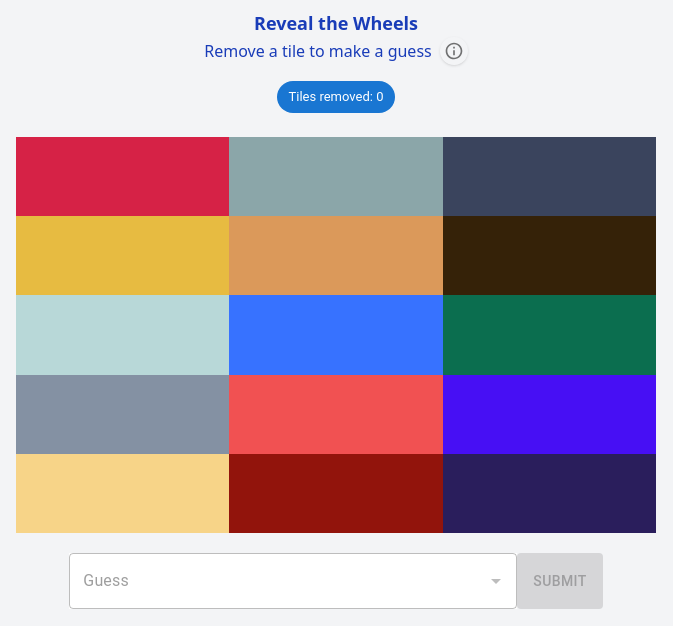
Test: Render UI Tests › should display loading spinner before image is loaded
Click the 8th element titled "tile" at coordinates (336, 335), box [229,295,443,375]
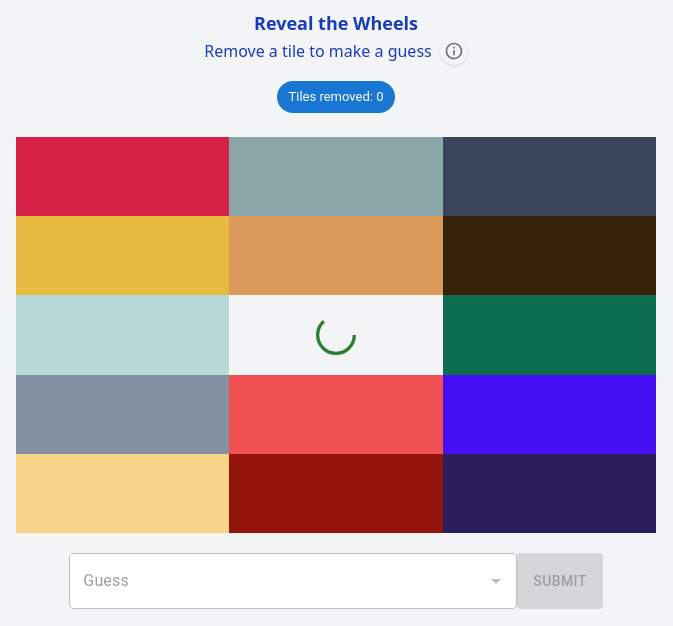
Expected: the progress indicator is shown, [316,315,356,355]
